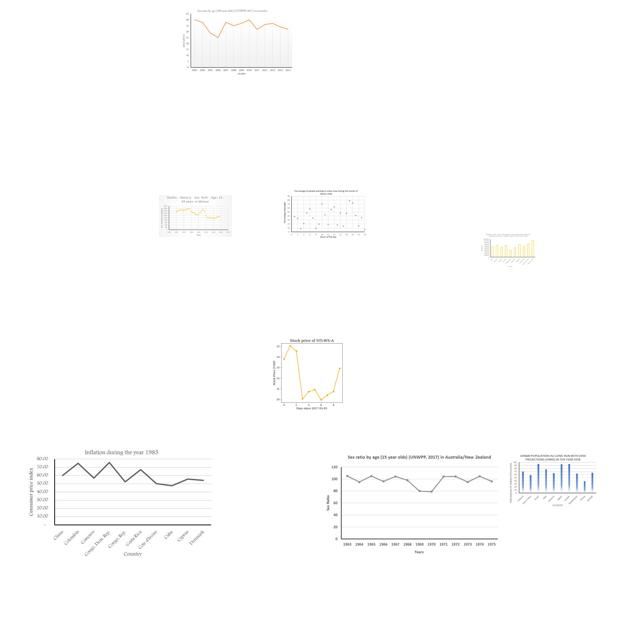Graph: (28, 448, 215, 558), (323, 452, 503, 558), (259, 334, 362, 411), (181, 7, 293, 76), (508, 453, 598, 507), (283, 189, 367, 239), (159, 195, 232, 237), (480, 233, 536, 267)
